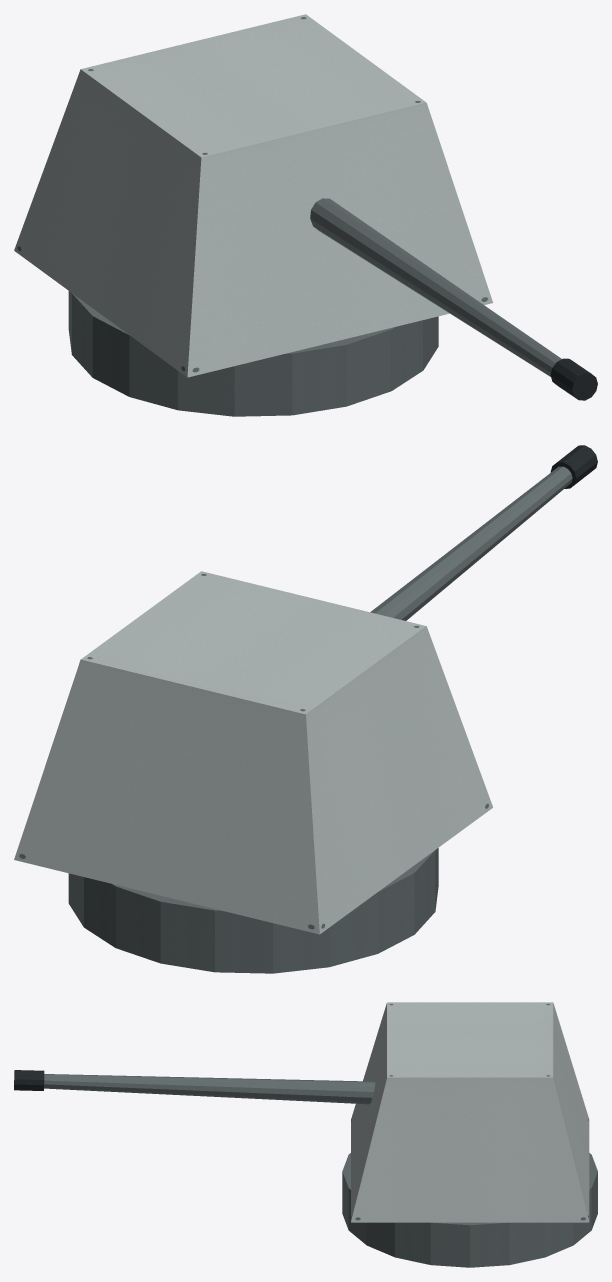
File: mount_f124_76mm_metric.glb
3 views of the same model, one above another, from view 1: azimuth 30°, elevation 25°; view 2: azimuth 150°, elevation 25°; view 3: azimuth 270°, elevation 25° (orthographic). The views are drawn at different scales.
Parts seen in each view (by area): view 1: MESH_F124_TEMPLATE_76mm_F124_PaintedSteel_UV; view 2: MESH_F124_TEMPLATE_76mm_F124_PaintedSteel_UV; view 3: MESH_F124_TEMPLATE_76mm_F124_PaintedSteel_UV.
Boxes of the visible parts, left/top/right/bottom form: MESH_F124_TEMPLATE_76mm_F124_PaintedSteel_UV: left=14, top=14, right=597, bottom=416; MESH_F124_TEMPLATE_76mm_F124_PaintedSteel_UV: left=14, top=445, right=597, bottom=973; MESH_F124_TEMPLATE_76mm_F124_PaintedSteel_UV: left=14, top=1002, right=597, bottom=1267.
Bounding box in the file's own units: 3 × 2.25 × 6.85.
Materials: 1 (1 with a texture image).
